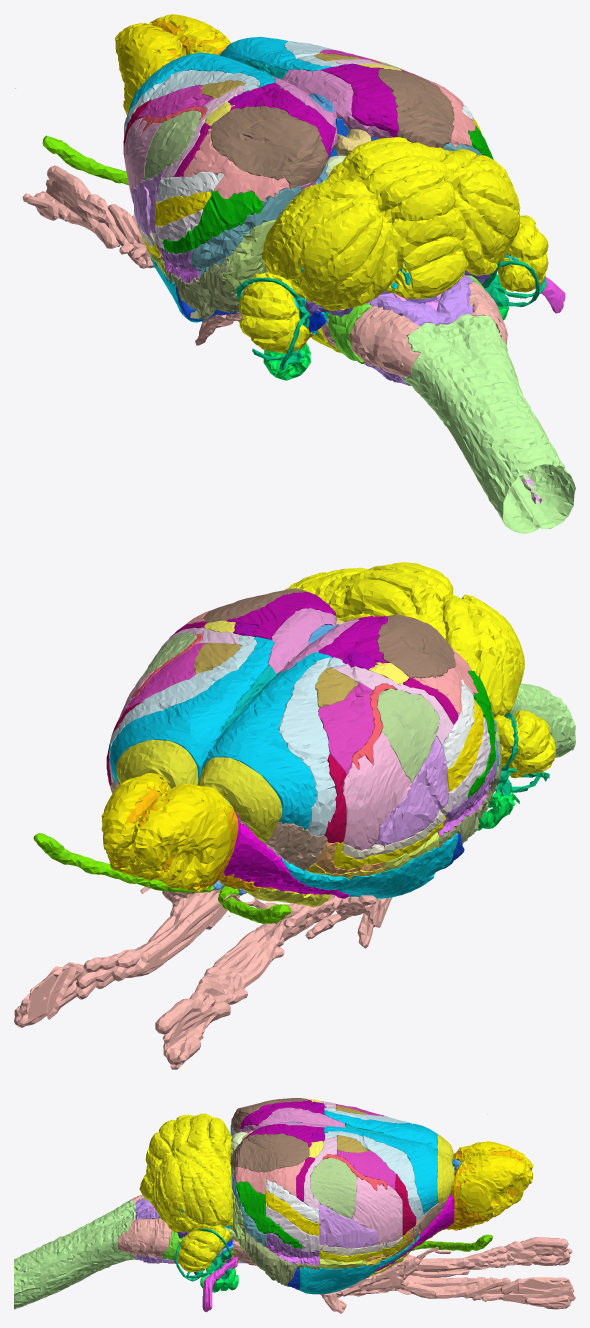
File: WHS_SD_rat_atlas_v4_compressed.glb
3 renders of one model, top to bottom at view 1: azimuth 30°, elevation 25°; view 2: azimuth 150°, elevation 25°; view 3: azimuth 270°, elevation 25°, orthographic. The views are drawn at different scales.
Parts seen in each view (by area): view 1: 4 Molecular cell layer of the cerebellum, 45 Spinal cord, 442 Primary visual area, 76 spinal trigeminal tract, 65 Glomerular layer of the olfactory bulb, 448 Secondary visual area, medial part, 406 Secondary motor area, 443 Secondary visual area, lateral part, 427 Retrosplenial dysgranular area, 444 Temporal association cortex, 108 Postrhinal cortex, 47 Brainstem, unspecified (+17 smaller); view 2: 76 spinal trigeminal tract, 4 Molecular cell layer of the cerebellum, 406 Secondary motor area, 65 Glomerular layer of the olfactory bulb, 408 Primary motor area, 77 Frontal association cortex, 420 Primary somatosensory area, face representation, 442 Primary visual area, 425 Primary somatosensory area, barrel field, 417 Primary somatosensory area, forelimb representation, 448 Secondary visual area, medial part, 181 Piriform cortex, layer 1 (+28 smaller); view 3: 76 spinal trigeminal tract, 4 Molecular cell layer of the cerebellum, 45 Spinal cord, 65 Glomerular layer of the olfactory bulb, 406 Secondary motor area, 442 Primary visual area, 420 Primary somatosensory area, face representation, 425 Primary somatosensory area, barrel field, 408 Primary motor area, 181 Piriform cortex, layer 1, 422 Secondary somatosensory area, 448 Secondary visual area, medial part (+30 smaller).
Part boxes in pixels (left/top/right/bottom): 4 Molecular cell layer of the cerebellum: left=239, top=137, right=548, bottom=353; 45 Spinal cord: left=401, top=314, right=575, bottom=533; 442 Primary visual area: left=210, top=69, right=453, bottom=189; 76 spinal trigeminal tract: left=22, top=165, right=507, bottom=376; 65 Glomerular layer of the olfactory bulb: left=115, top=14, right=230, bottom=115; 448 Secondary visual area, medial part: left=230, top=66, right=398, bottom=159; 406 Secondary motor area: left=127, top=36, right=331, bottom=115; 443 Secondary visual area, lateral part: left=183, top=75, right=475, bottom=201; 427 Retrosplenial dysgranular area: left=271, top=69, right=392, bottom=190; 444 Temporal association cortex: left=163, top=125, right=493, bottom=254; 108 Postrhinal cortex: left=15, top=88, right=481, bottom=277; 47 Brainstem, unspecified: left=357, top=275, right=476, bottom=385; 76 spinal trigeminal tract: left=14, top=714, right=505, bottom=1069; 4 Molecular cell layer of the cerebellum: left=285, top=562, right=555, bottom=778; 406 Secondary motor area: left=109, top=636, right=331, bottom=829; 65 Glomerular layer of the olfactory bulb: left=101, top=773, right=231, bottom=892; 408 Primary motor area: left=109, top=635, right=345, bottom=836; 77 Frontal association cortex: left=116, top=739, right=282, bottom=841; 420 Primary somatosensory area, face representation: left=108, top=670, right=411, bottom=850; 442 Primary visual area: left=202, top=588, right=455, bottom=678; 425 Primary somatosensory area, barrel field: left=135, top=631, right=439, bottom=782; 417 Primary somatosensory area, forelimb representation: left=122, top=643, right=374, bottom=774; 448 Secondary visual area, medial part: left=226, top=592, right=388, bottom=663; 181 Piriform cortex, layer 1: left=276, top=833, right=457, bottom=898; 76 spinal trigeminal tract: left=117, top=1195, right=575, bottom=1313; 4 Molecular cell layer of the cerebellum: left=139, top=1113, right=232, bottom=1272; 45 Spinal cord: left=14, top=1200, right=135, bottom=1309; 65 Glomerular layer of the olfactory bulb: left=449, top=1141, right=533, bottom=1230; 406 Secondary motor area: left=324, top=1110, right=437, bottom=1214; 442 Primary visual area: left=230, top=1098, right=309, bottom=1172; 420 Primary somatosensory area, face representation: left=352, top=1176, right=402, bottom=1244; 425 Primary somatosensory area, barrel field: left=310, top=1102, right=356, bottom=1219; 408 Primary motor area: left=324, top=1107, right=422, bottom=1222; 181 Piriform cortex, layer 1: left=300, top=1235, right=420, bottom=1294; 422 Secondary somatosensory area: left=319, top=1204, right=377, bottom=1248; 448 Secondary visual area, medial part: left=241, top=1099, right=324, bottom=1147.
Size of the model in its own units: 17.92 by 14.64 by 39.8.
